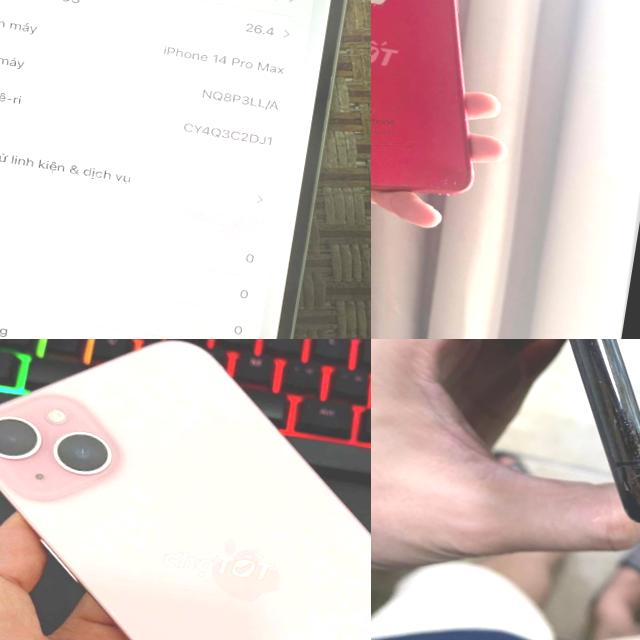gen_14: (0, 0, 359, 339)
gen_15: (0, 339, 371, 640)
gen_7_8: (371, 0, 523, 214)
gen_x_xs: (471, 339, 640, 533)
